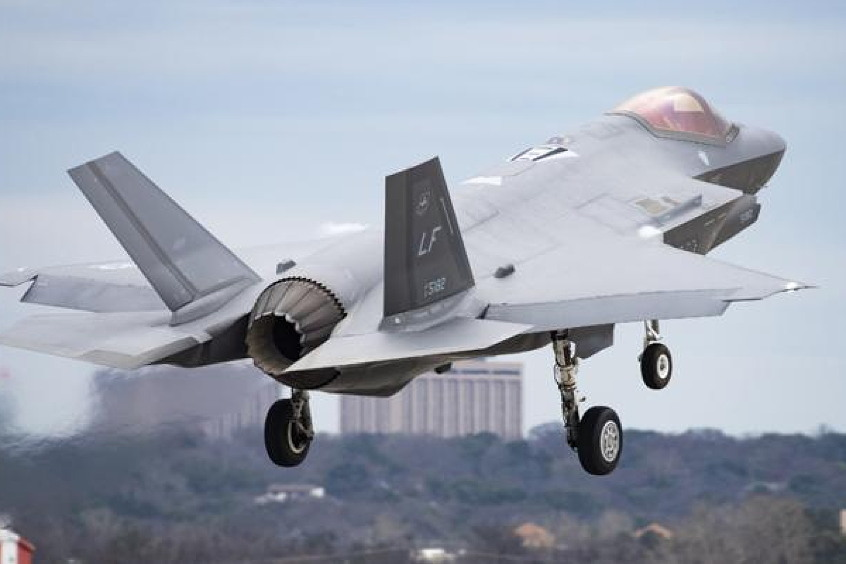F35: (0, 81, 822, 478)
